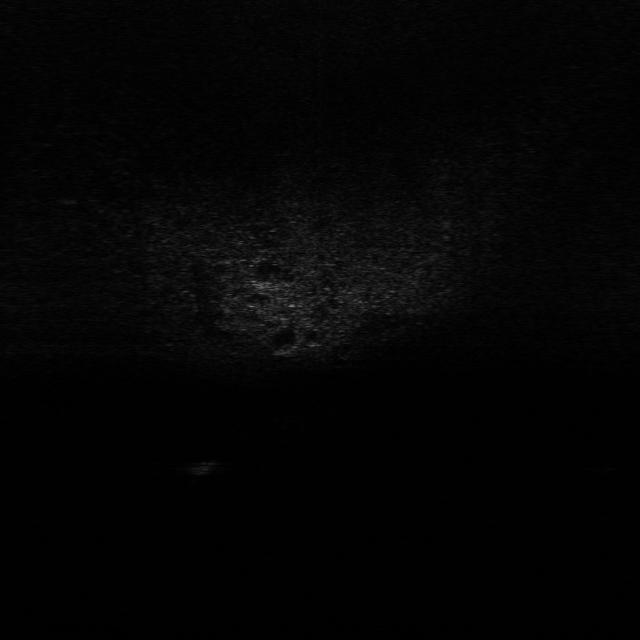cylinder: (184, 455, 220, 476)
